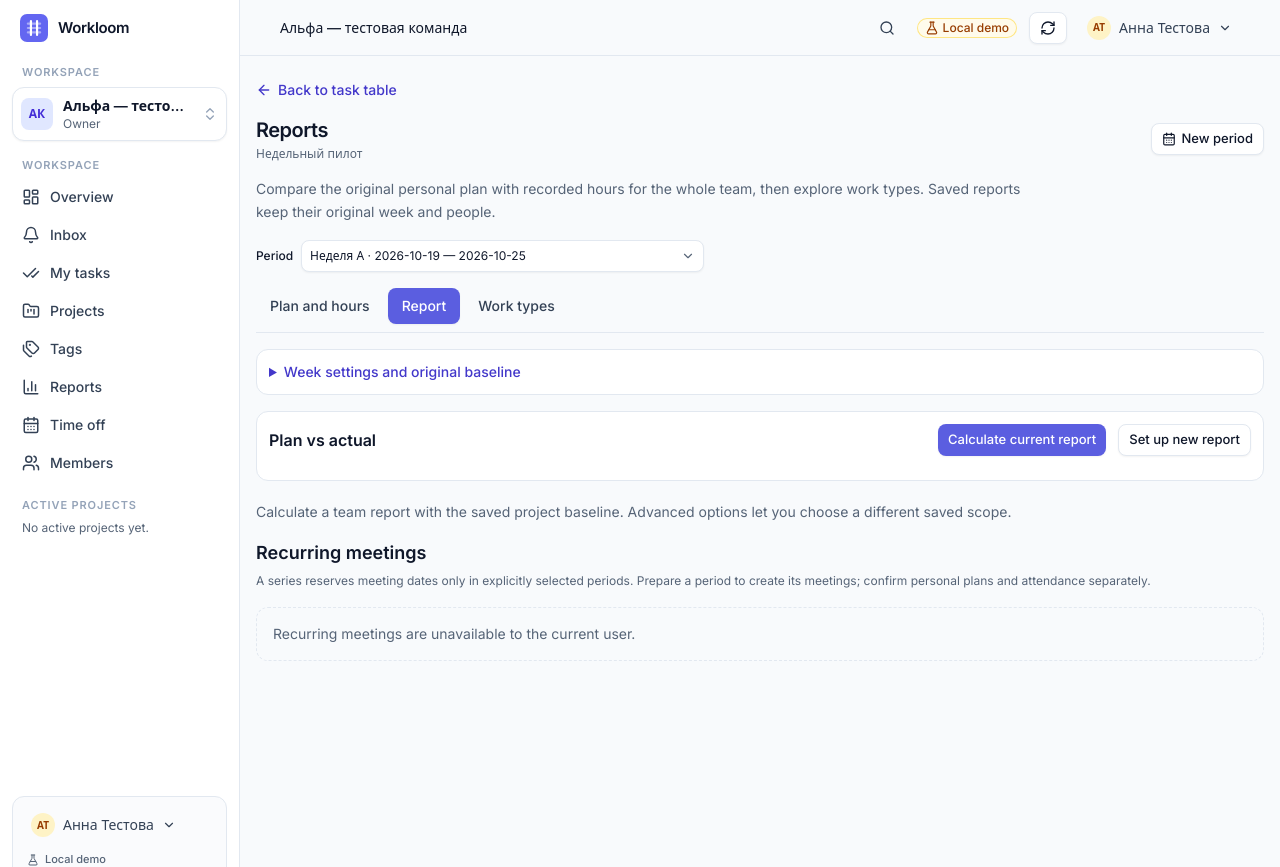
it: latest saved weekly report › calculates the current report in one click with the project baseline and everyone
Click the button "Calculate current report".
click(1022, 440)  # box 938,424 -> 1106,456
(page scrolled)
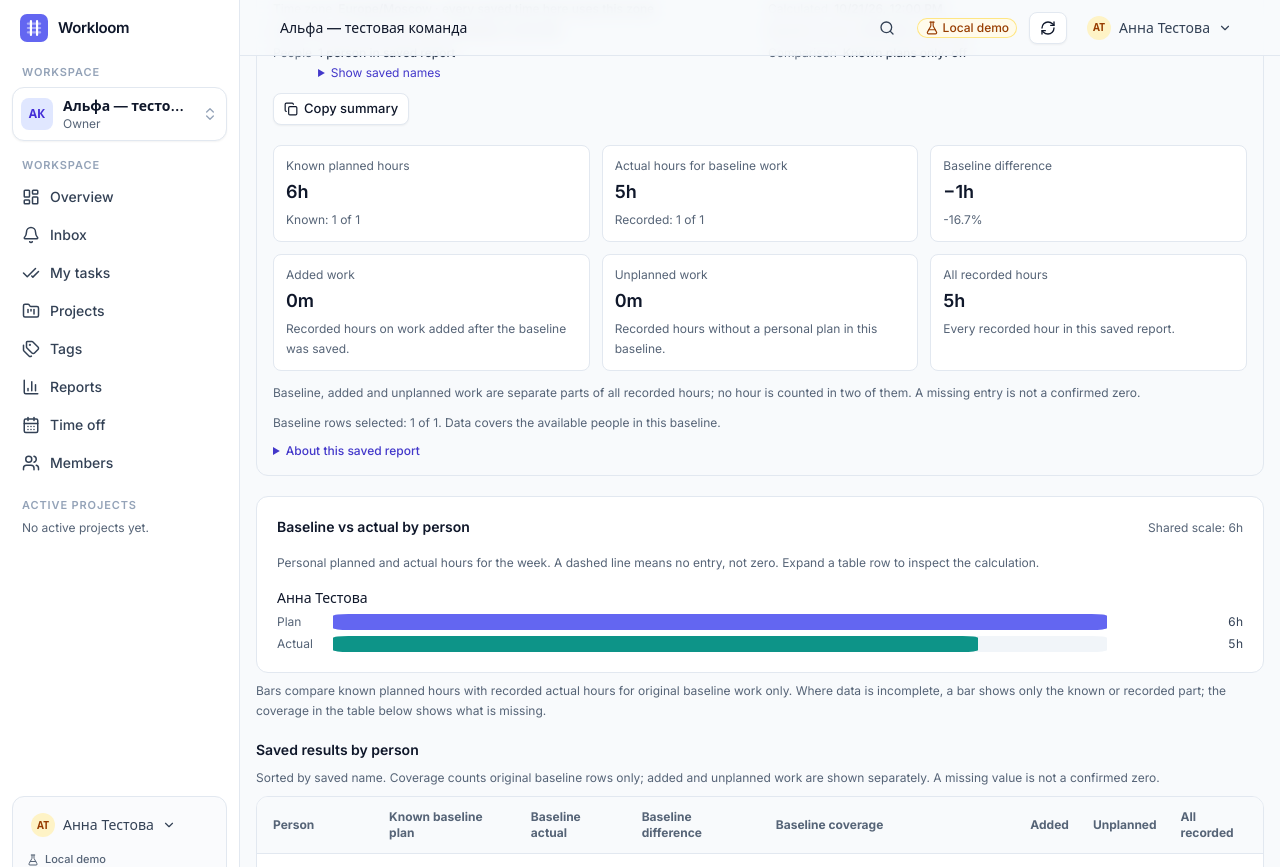
Click the heading "About this saved report".
click(346, 450)  # box 273,442 -> 420,458
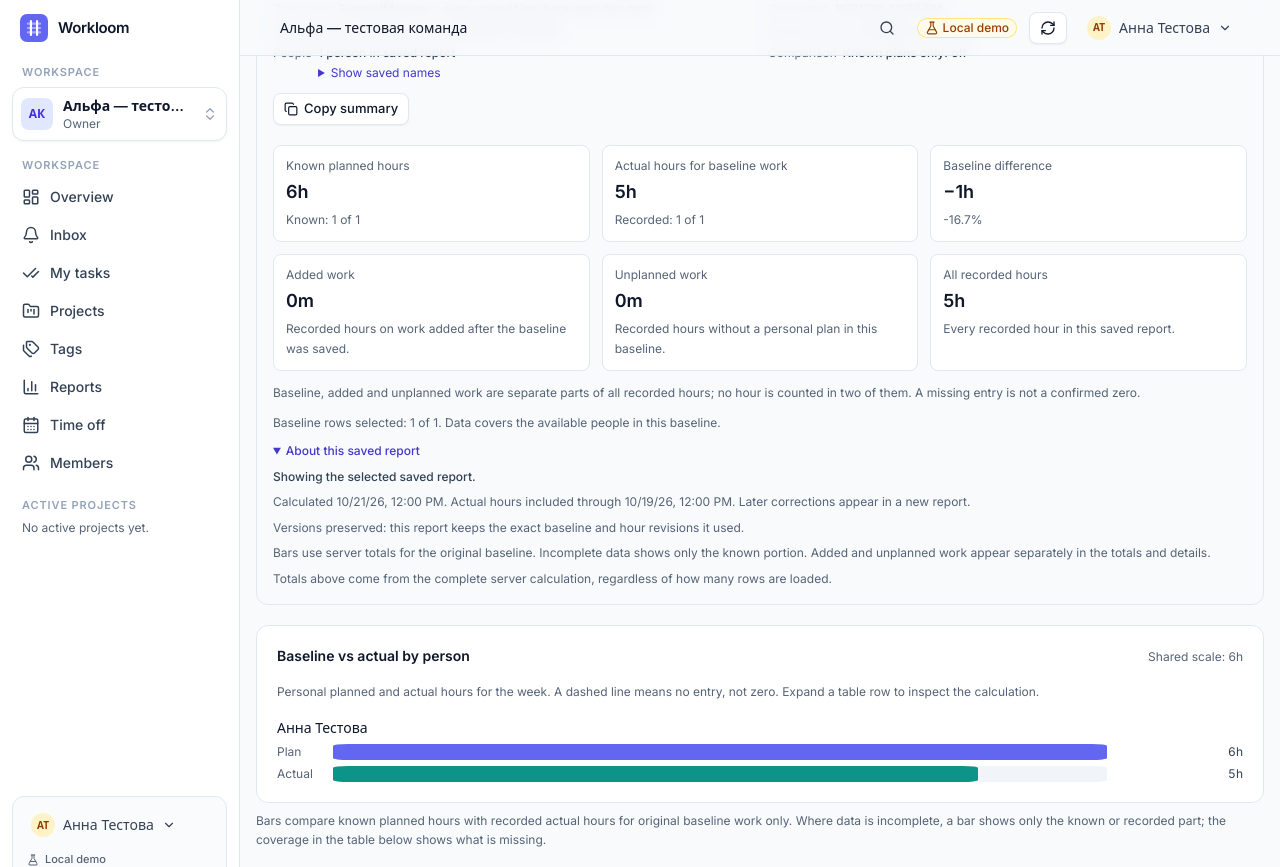
Now the text "Showing the selected saved report." is shown, box 273,468 -> 476,484
